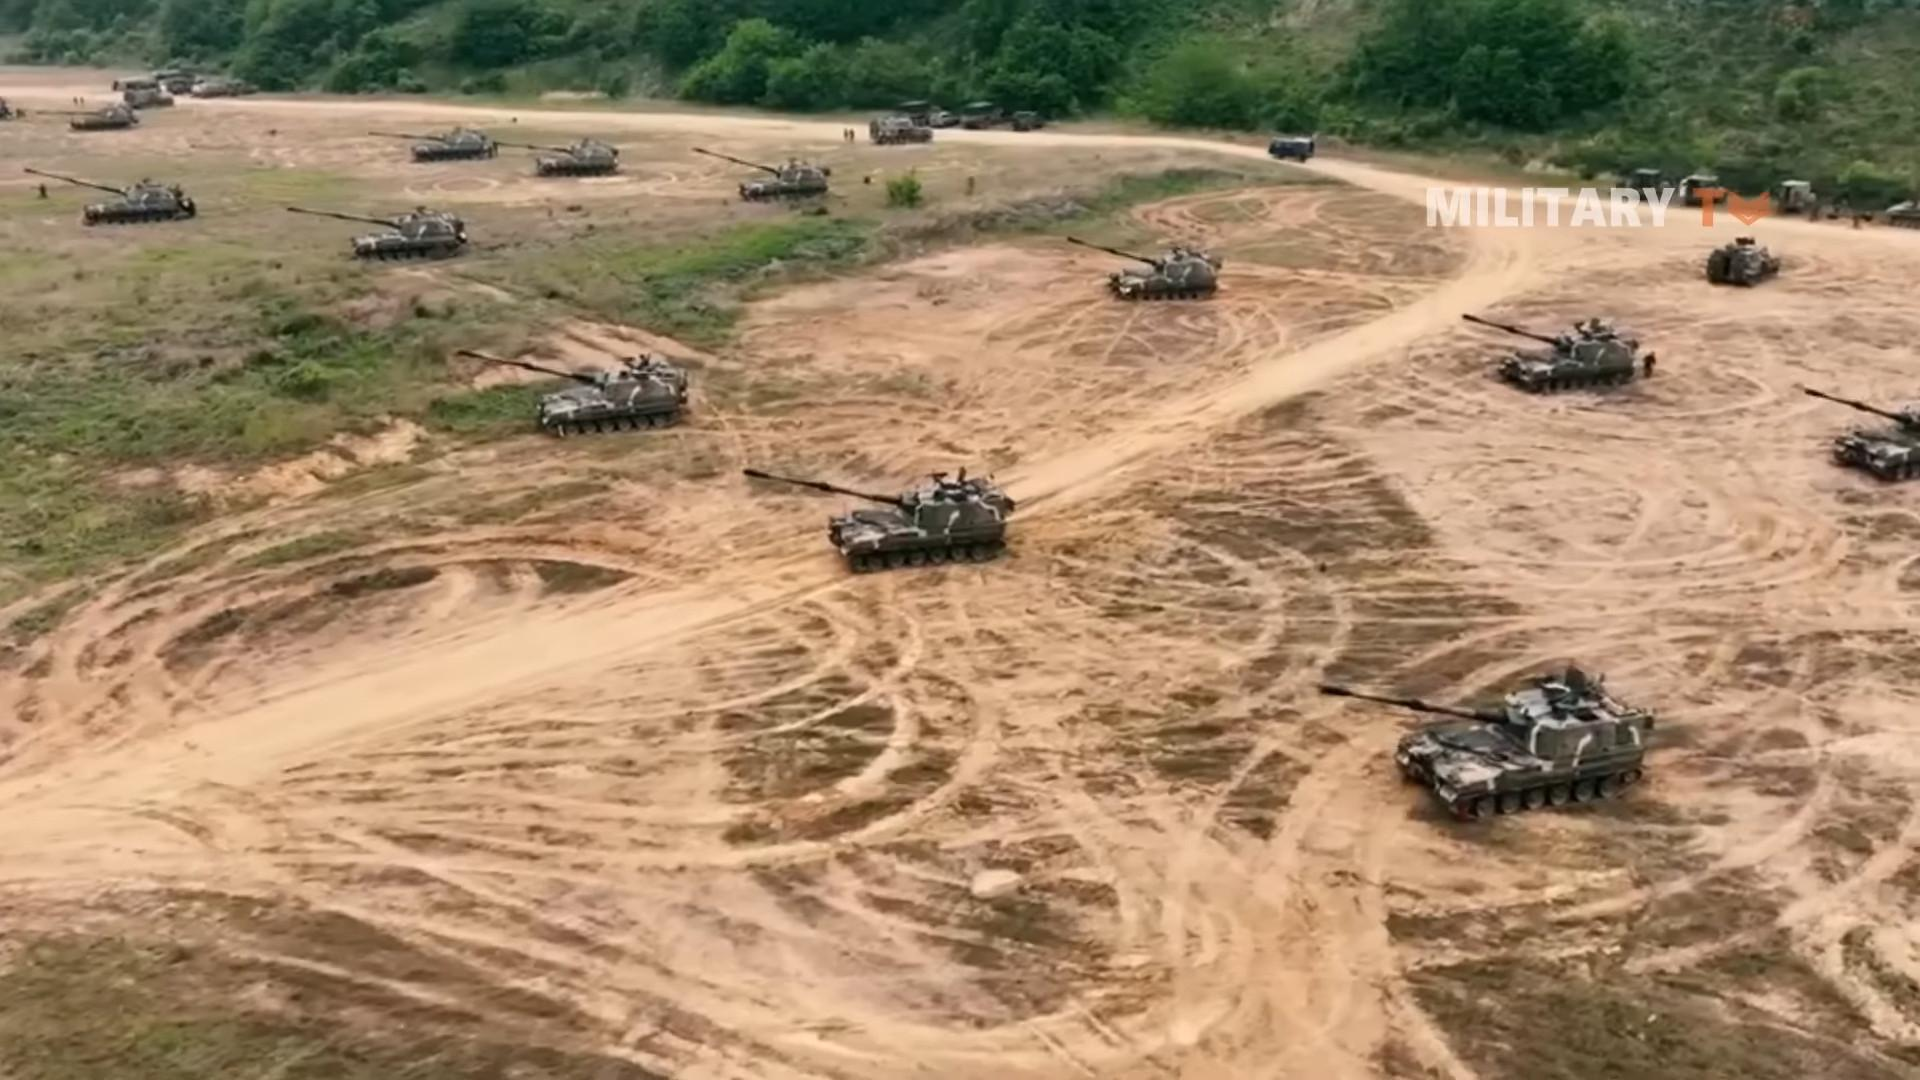tank: (1319, 676, 1654, 820), (741, 469, 1014, 575), (452, 348, 686, 435), (1458, 314, 1636, 396), (1805, 388, 1919, 480), (285, 207, 468, 264), (1067, 235, 1215, 301), (24, 167, 194, 224), (692, 146, 827, 199), (493, 137, 620, 177), (367, 127, 487, 164)
